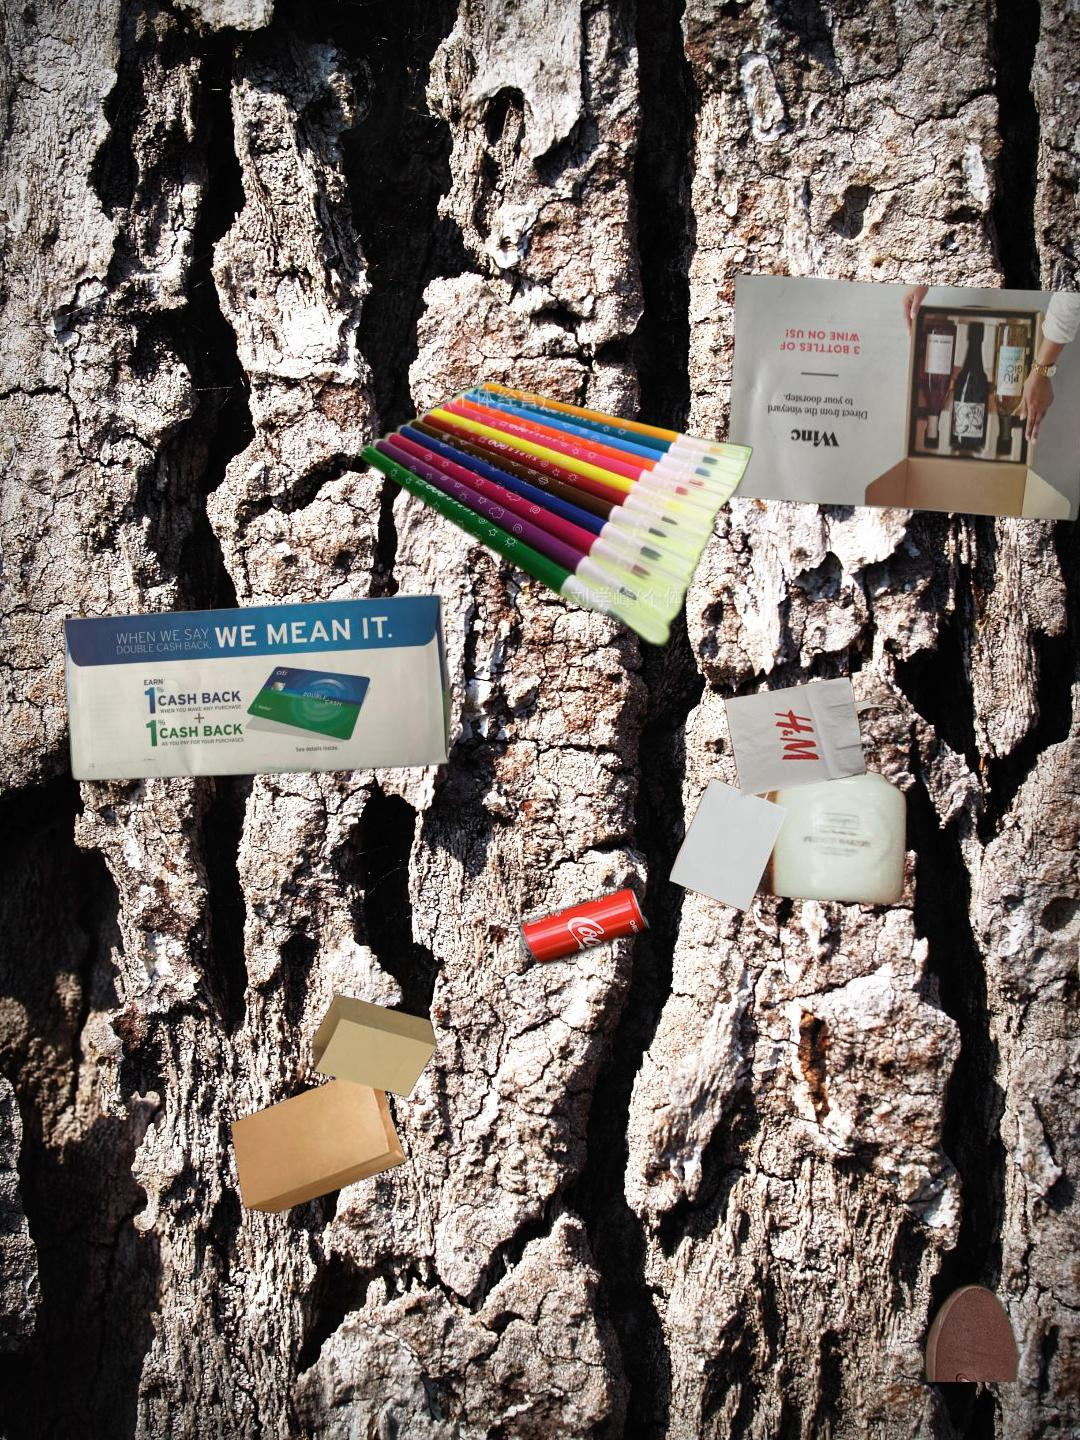metal-cans: (518, 698, 1031, 1382)
paper: (722, 271, 1080, 525), (58, 592, 456, 783)
paper-bag: (667, 674, 910, 916), (227, 992, 440, 1225)
penholder: (358, 379, 756, 652)
